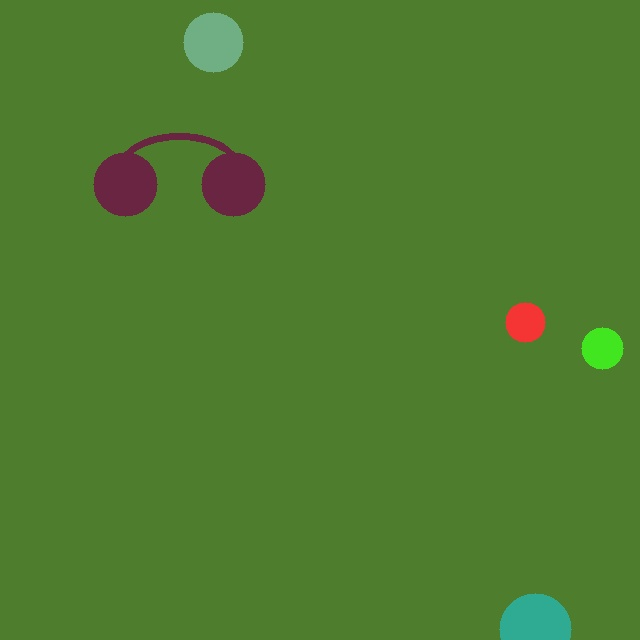over_ear: (89, 117, 269, 220)
